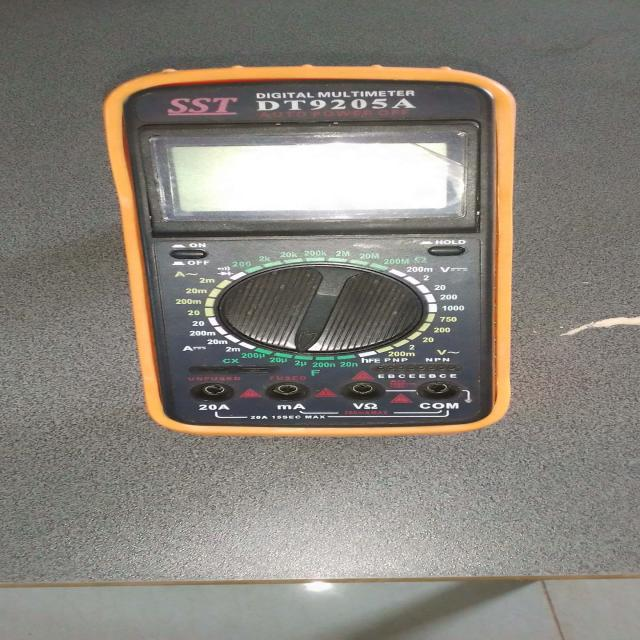Digital Multimeter: (85, 60, 541, 439)
